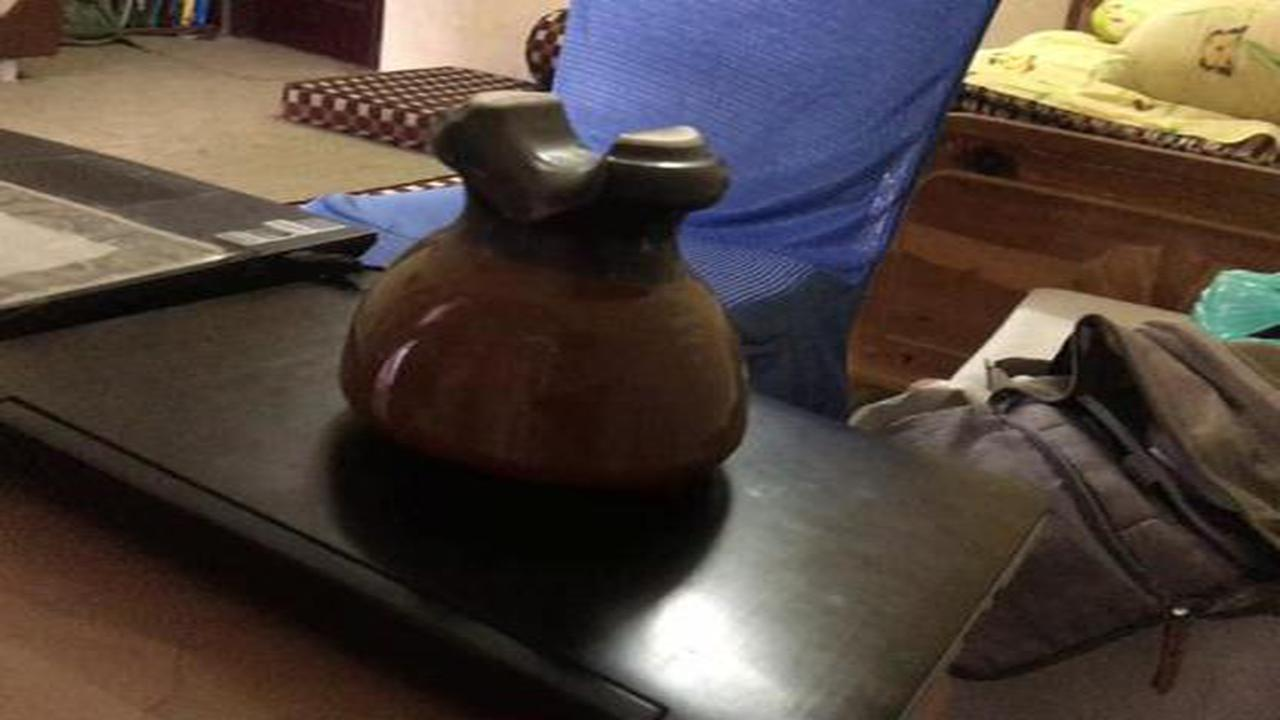insulator_pin: (321, 71, 773, 509)
